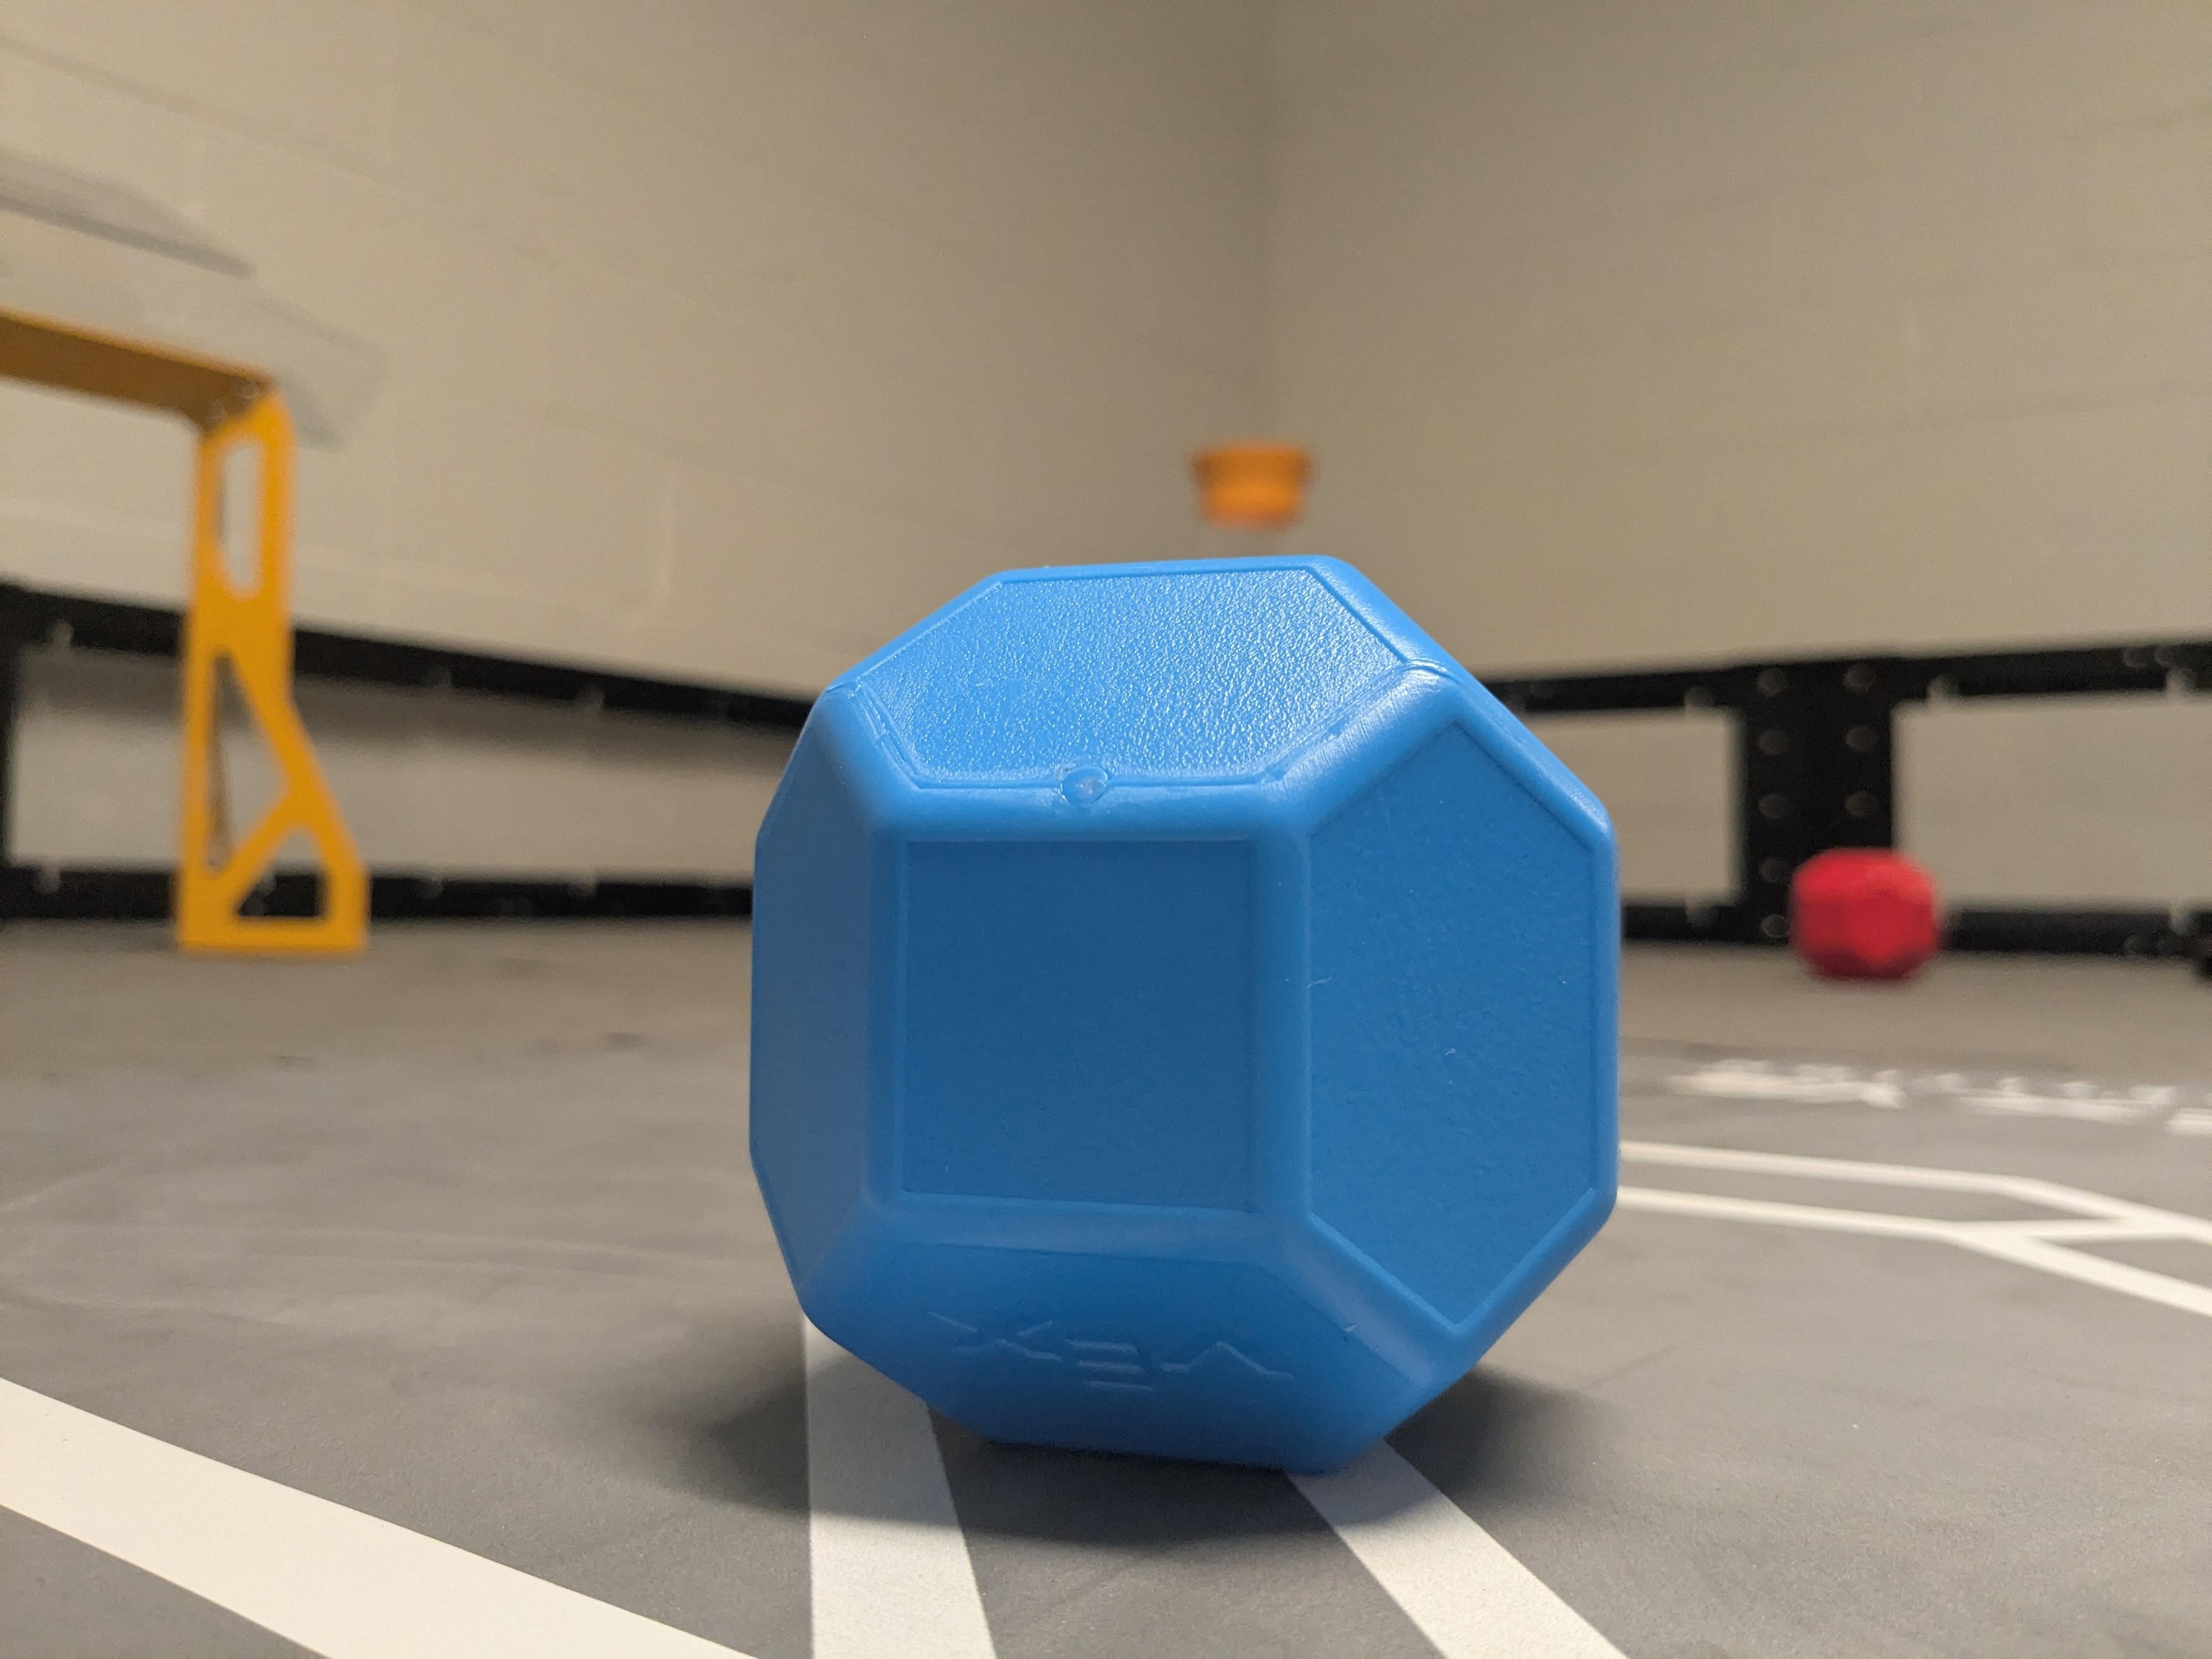Vex-Pieces-BLUE: (751, 558, 1618, 1473)
